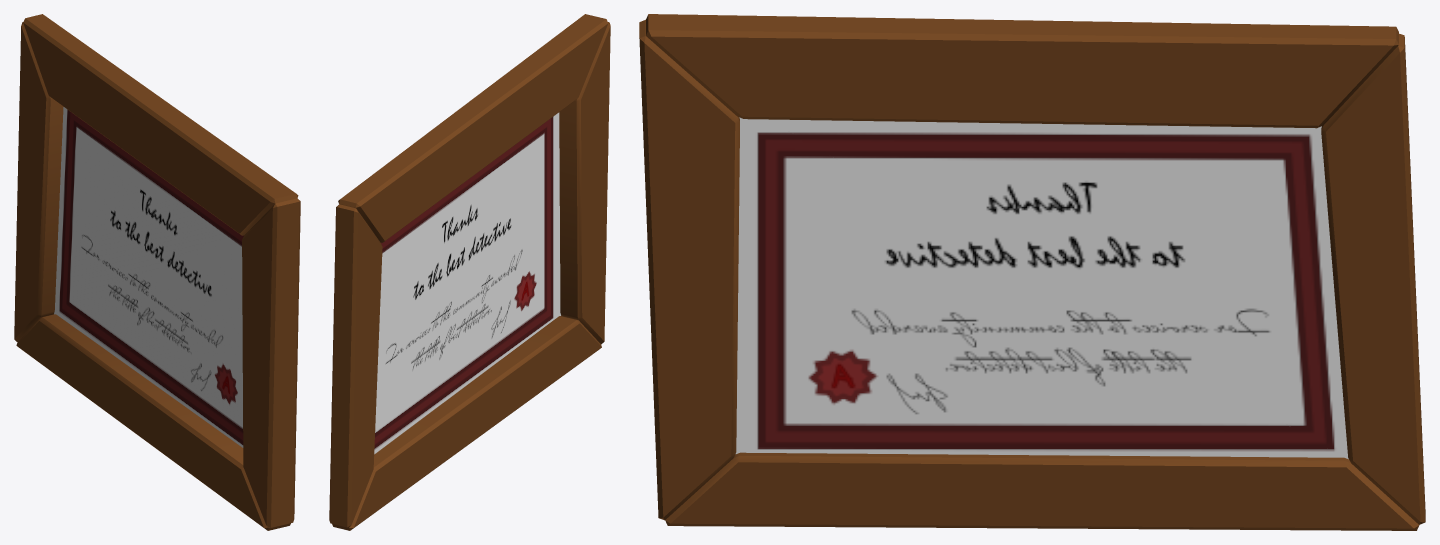
Rendered from Picture3.fbx.
3 views of the same model, side by side, from view 1: azimuth 30°, elevation 25°; view 2: azimuth 150°, elevation 25°; view 3: azimuth 270°, elevation 25° (orthographic). The views are drawn at different scales.
Parts seen in each view (by area): view 1: Picture3; view 2: Picture3; view 3: Picture3.
Part boxes in pixels (box(x1,y1,x2,y2)): Picture3: box(14, 14, 300, 530); Picture3: box(329, 14, 610, 530); Picture3: box(639, 14, 1425, 530).
Bounding box in the file's own units: 0.0412 × 0.4799 × 0.6822.
